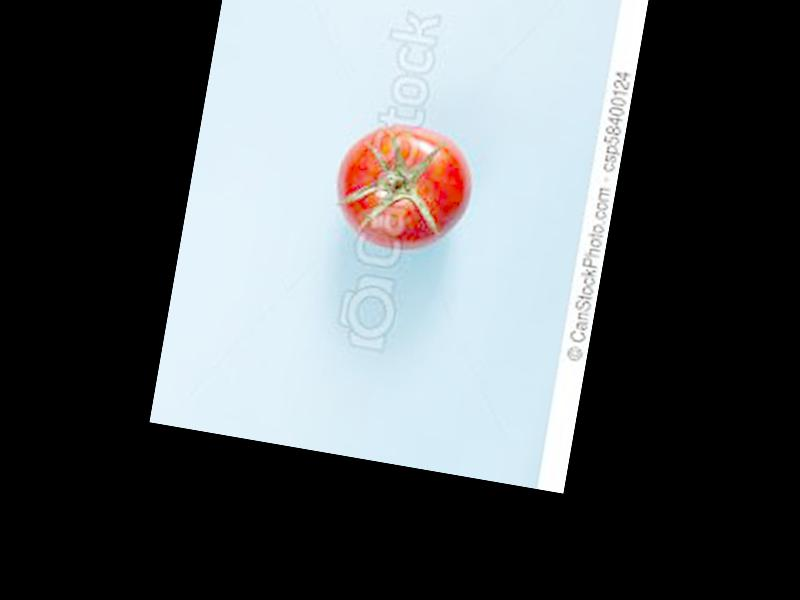Tomato: (328, 116, 482, 257)
